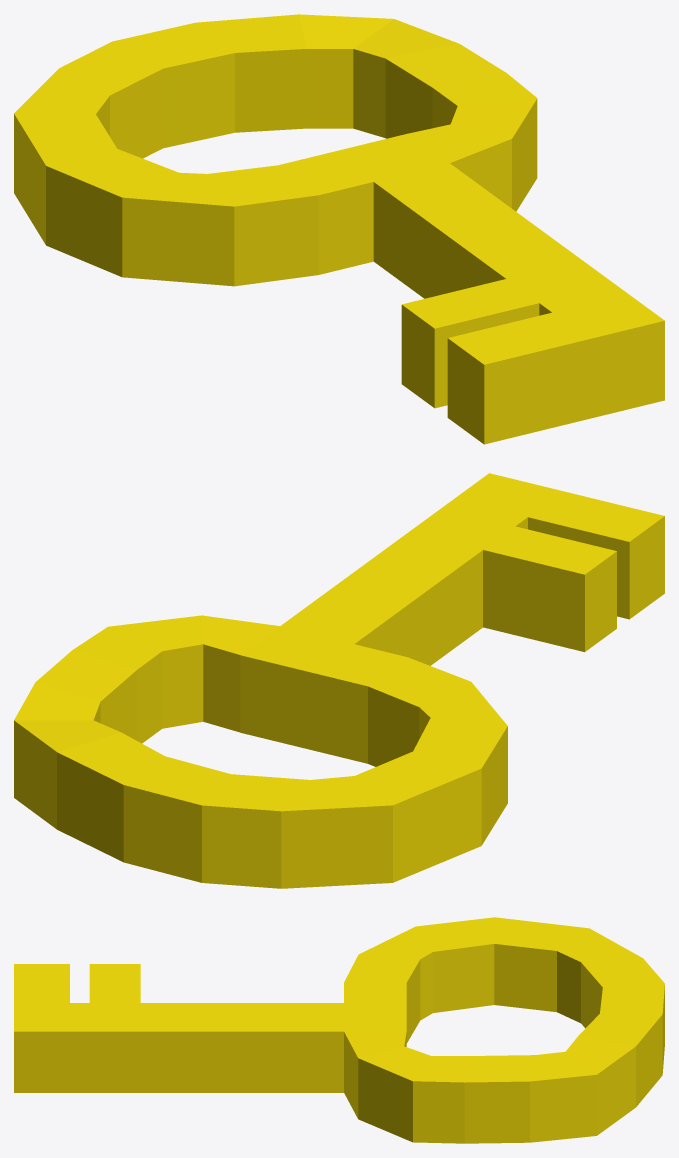
The model's file is key.fbx.
3 views of the same model, one above another, from view 1: azimuth 30°, elevation 25°; view 2: azimuth 150°, elevation 25°; view 3: azimuth 270°, elevation 25° (orthographic). The views are drawn at different scales.
Parts seen in each view (by area): view 1: Key; view 2: Key; view 3: Key.
Boxes of the visible parts, x1,y1,x2,y2 form: Key: (14, 14, 664, 444); Key: (14, 473, 664, 888); Key: (14, 917, 664, 1143).
Size of the model in its own units: 295 by 53.04 by 491.
